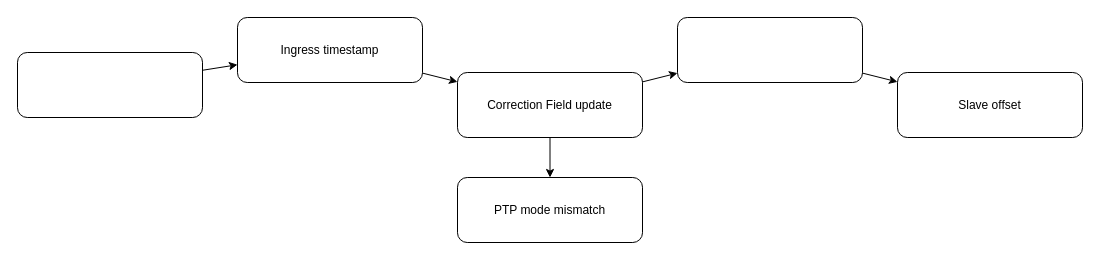
Some shapes in this 1100 by 260 pixel diagram are drawn without their labels. The shapes that lost their labels are listed below. From the top down, each one's box as (x1, y1, x2, y2) in pixels, then its label:
(676, 16, 862, 82): E2E/P2P delay
(16, 52, 202, 118): Grandmaster Sync
